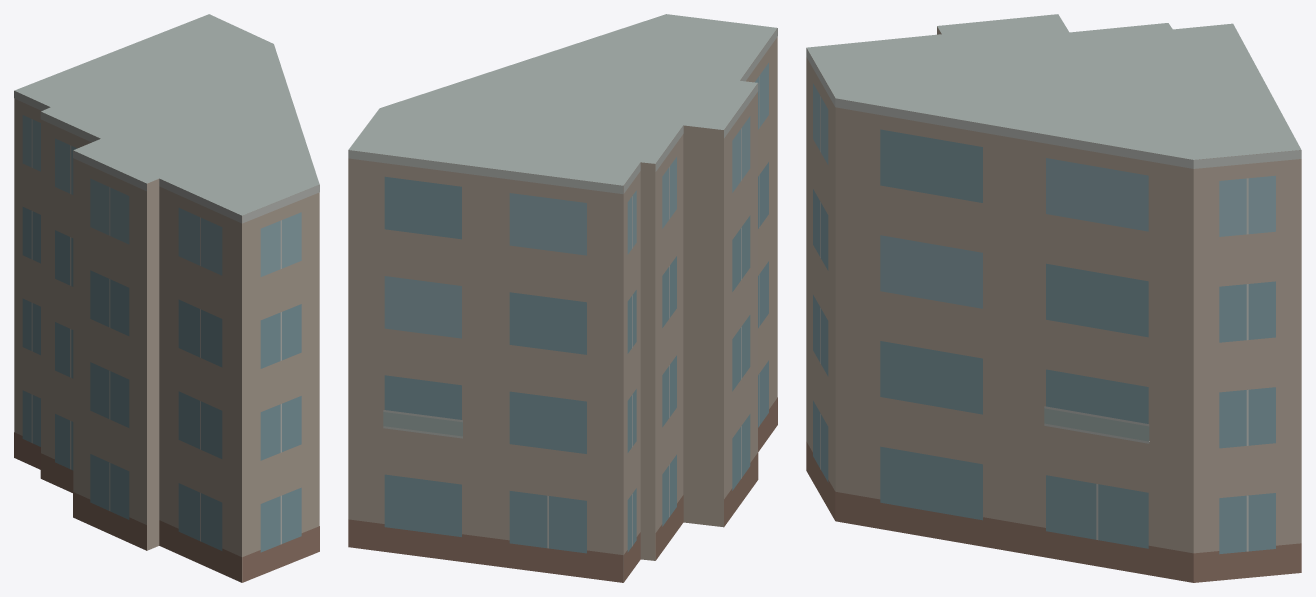
File: survey-upis-32719989.glb
3 views of the same model, side by side, from view 1: azimuth 30°, elevation 25°; view 2: azimuth 150°, elevation 25°; view 3: azimuth 270°, elevation 25° (orthographic). The views are drawn at different scales.
Visible parts, largest first — view 1: survey-upis-32719989.tmp; view 2: survey-upis-32719989.tmp; view 3: survey-upis-32719989.tmp.
Boxes of the visible parts, x1,y1,x2,y2 form: survey-upis-32719989.tmp: (14,14,319,582); survey-upis-32719989.tmp: (348,14,777,582); survey-upis-32719989.tmp: (806,14,1301,582).
Size of the model in its own units: 8.44 by 11.4 by 12.11.
